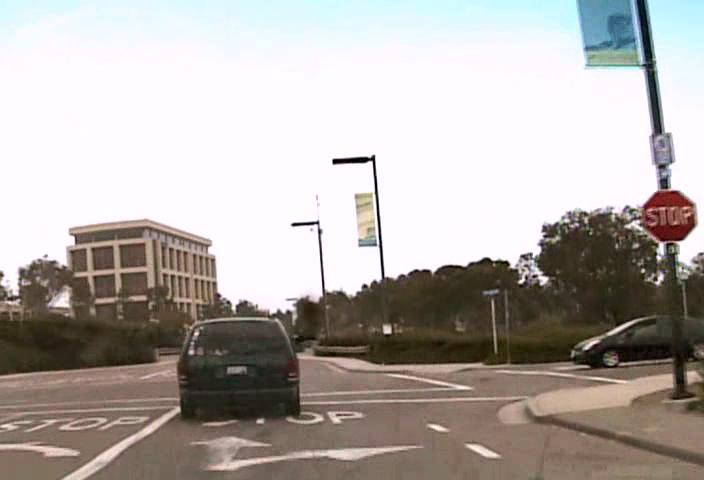stop: (642, 189, 697, 242)
